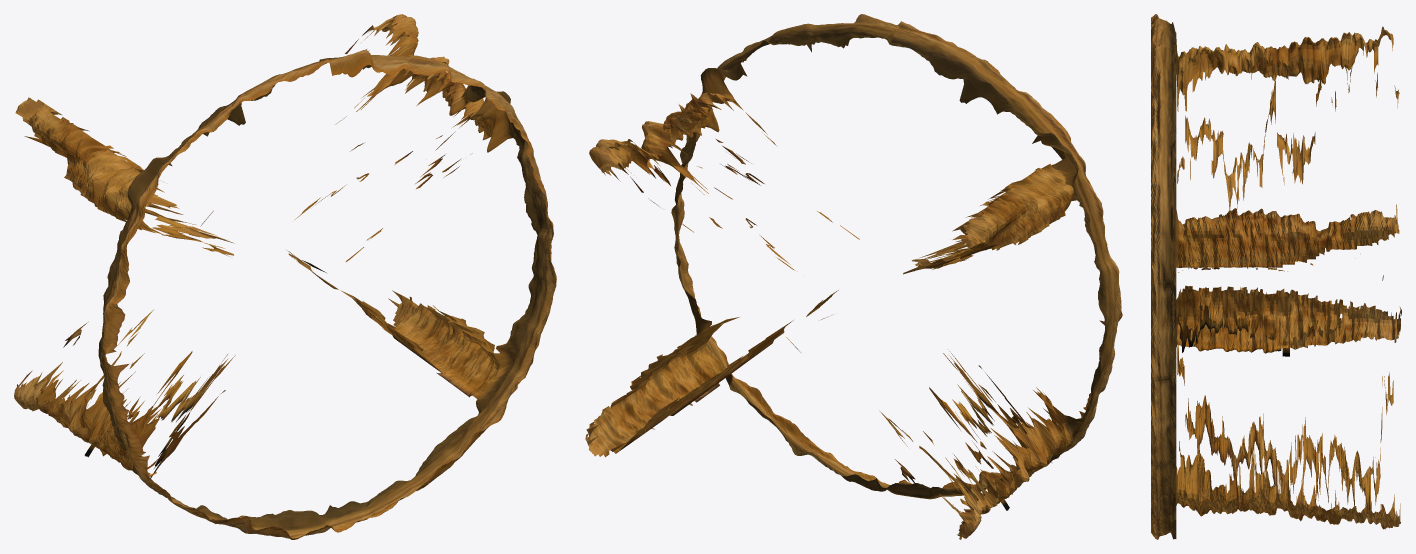
The picture shows the model from 3 angles, left to right: view 1: azimuth 30°, elevation 25°; view 2: azimuth 150°, elevation 25°; view 3: azimuth 270°, elevation 25°; orthographic projection.
Visible parts, largest first — view 1: geometry_0; view 2: geometry_0; view 3: geometry_0.
Part boxes in pixels (box(x1,y1,x2,y2)): geometry_0: box(14, 14, 556, 539); geometry_0: box(585, 14, 1122, 539); geometry_0: box(1151, 14, 1401, 539).
Bounding box in the file's own units: 1.88 × 1.88 × 0.9012.
1 material, 1 textured.
